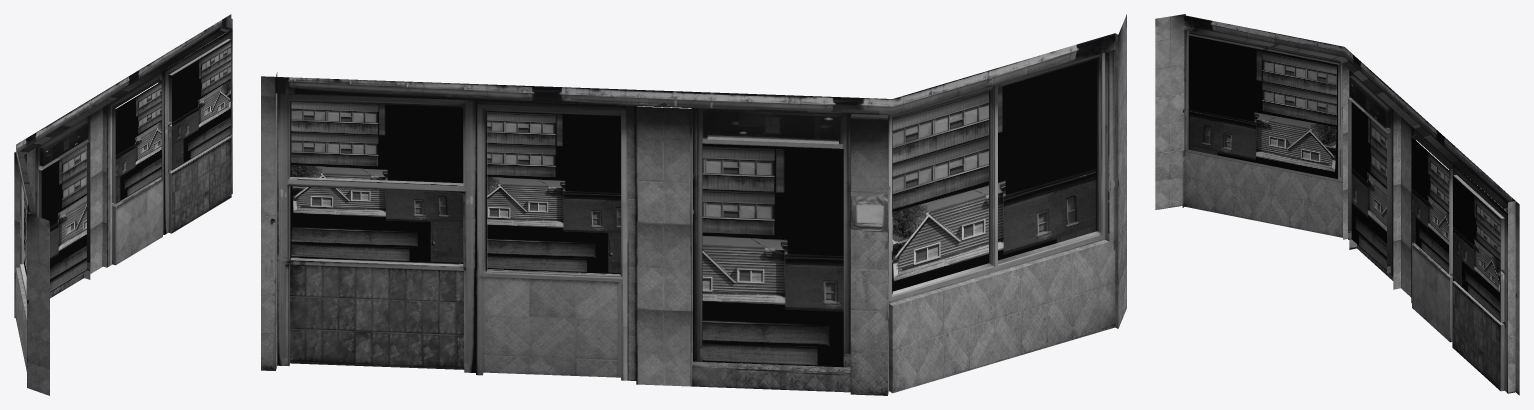
File: chinatown_boba.fbx
3 views of the same model, side by side, from view 1: azimuth 30°, elevation 25°; view 2: azimuth 150°, elevation 25°; view 3: azimuth 270°, elevation 25° (orthographic). The views are drawn at different scales.
Visible parts, largest first — view 1: chinatown_boba (×2); view 2: chinatown_boba (×2); view 3: chinatown_boba (×2).
Part boxes in pixels (x1,y1,x2,y2): chinatown_boba (×2): (14, 14, 232, 395); chinatown_boba (×2): (261, 14, 1126, 395); chinatown_boba (×2): (1155, 14, 1519, 395).
Bounding box in the file's own units: 867 × 406 × 701.
